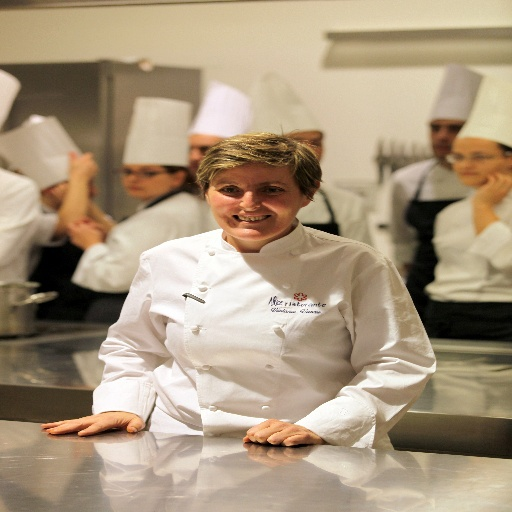hand: (35, 416, 146, 444), (239, 417, 324, 448), (64, 149, 100, 183), (473, 171, 511, 203), (64, 218, 104, 248), (82, 217, 109, 240)
